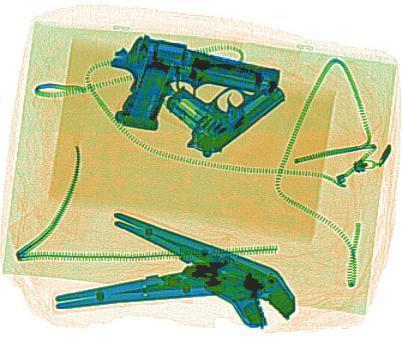Gun: (90, 31, 282, 152), (148, 48, 292, 157)
